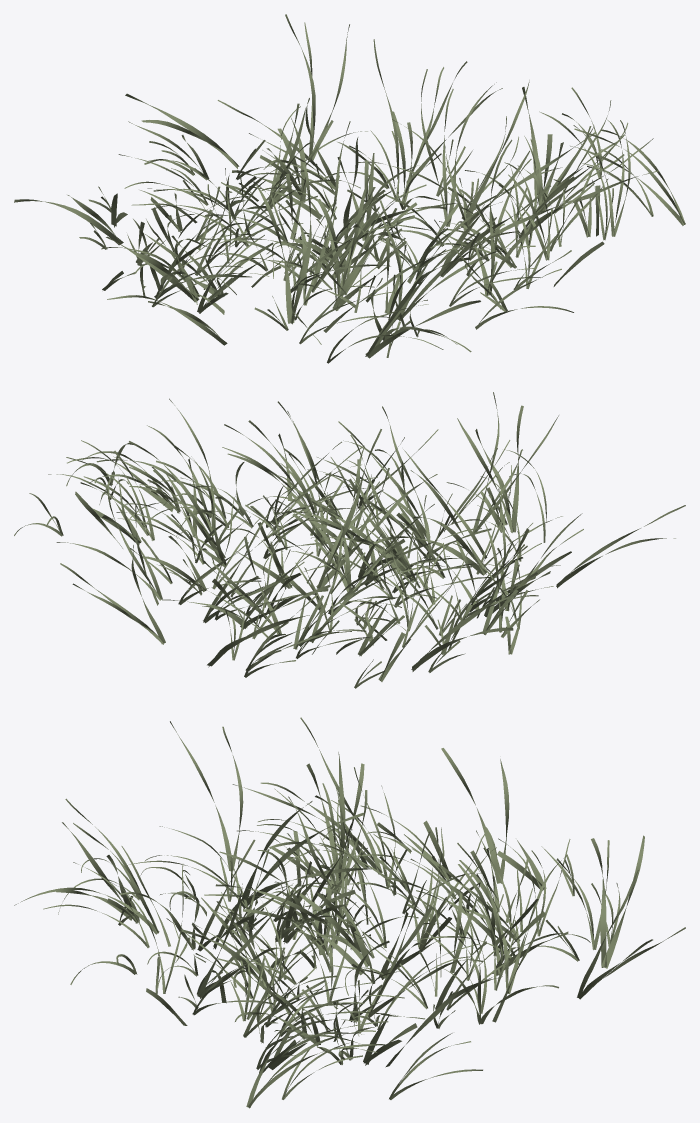
The model's file is smallGrassPatch3.fbx.
The picture shows the model from 3 angles, top to bottom: view 1: azimuth 30°, elevation 25°; view 2: azimuth 150°, elevation 25°; view 3: azimuth 270°, elevation 25°; orthographic projection. The views are drawn at different scales.
Visible parts, largest first — view 1: grassCarpet5Main; view 2: grassCarpet5Main; view 3: grassCarpet5Main.
Boxes of the visible parts, <box> form: grassCarpet5Main: <box>14,14,685,363</box>; grassCarpet5Main: <box>14,392,685,688</box>; grassCarpet5Main: <box>14,717,685,1108</box>.
Size of the model in its own units: 3.79 by 0.9154 by 3.54.
